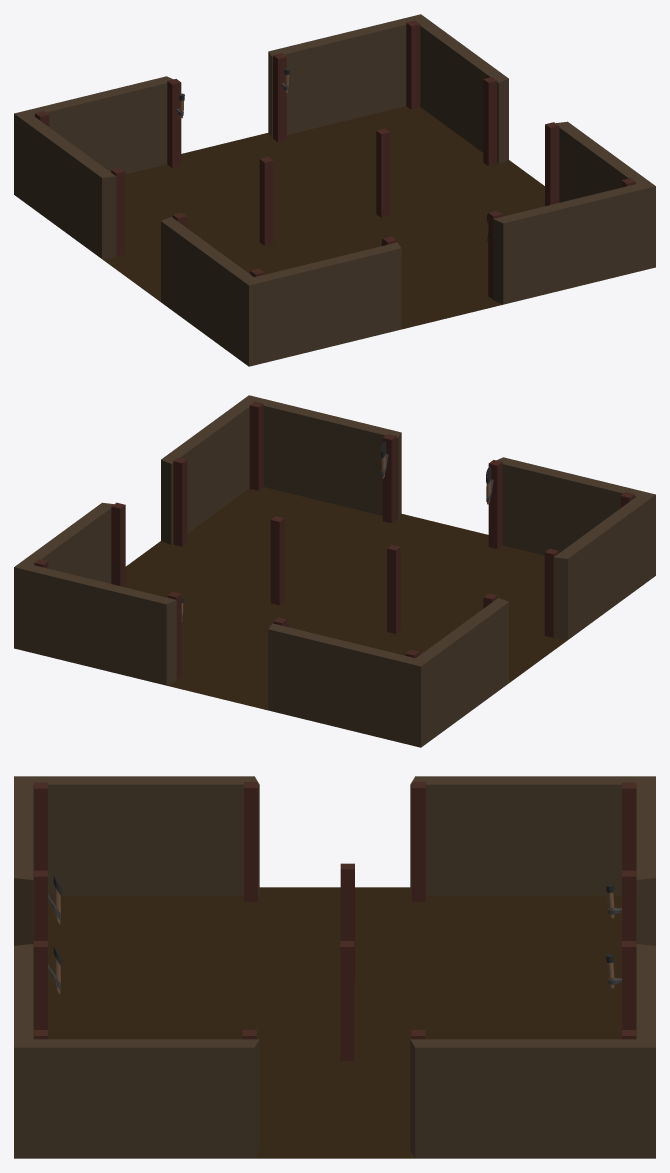
Rendered from RoomBaseLayout2.fbx.
3 renders of one model, top to bottom at view 1: azimuth 30°, elevation 25°; view 2: azimuth 150°, elevation 25°; view 3: azimuth 270°, elevation 25°, orthographic. The views are drawn at different scales.
Visible parts, largest first — view 1: Room1.006, Support.087, Support.083, Support.085, Support.086, Support.079, Support.089, Support.078, Support.084, Support.076; view 2: Room1.006, Support.082, Support.087, Support.089, Support.085, Support.086, Support.077, Support.076, Support.088, Support.078; view 3: Room1.006, Support.084, Support.087, Support.088, Support.078, Support.081, Support.076, Support.080, Support.086, Support.079, Support.077.
Boxes of the visible parts, x1=… form: Room1.006: x1=14, y1=14, x2=655, y2=366; Support.087: x1=376, y1=128, x2=390, y2=217; Support.083: x1=406, y1=20, x2=420, y2=109; Support.085: x1=483, y1=77, x2=497, y2=166; Support.086: x1=259, y1=157, x2=273, y2=245; Support.079: x1=167, y1=79, x2=181, y2=167; Support.089: x1=545, y1=122, x2=559, y2=206; Support.078: x1=273, y1=53, x2=286, y2=142; Support.084: x1=111, y1=167, x2=125, y2=256; Support.076: x1=488, y1=210, x2=502, y2=299; Room1.006: x1=14, y1=395, x2=655, y2=747; Support.082: x1=249, y1=401, x2=263, y2=490; Support.087: x1=270, y1=516, x2=284, y2=605; Support.089: x1=173, y1=457, x2=187, y2=546; Support.085: x1=111, y1=502, x2=125, y2=587; Support.086: x1=387, y1=544, x2=400, y2=633; Support.077: x1=488, y1=460, x2=502, y2=549; Support.076: x1=382, y1=434, x2=396, y2=523; Support.088: x1=544, y1=548, x2=558, y2=637; Support.078: x1=167, y1=591, x2=181, y2=680; Room1.006: x1=14, y1=776, x2=655, y2=1158; Support.084: x1=411, y1=782, x2=425, y2=901; Support.087: x1=340, y1=941, x2=354, y2=1060; Support.088: x1=244, y1=782, x2=257, y2=901; Support.078: x1=622, y1=941, x2=636, y2=1029; Support.081: x1=622, y1=782, x2=636, y2=870; Support.076: x1=34, y1=941, x2=47, y2=1029; Support.080: x1=34, y1=782, x2=47, y2=870; Support.086: x1=340, y1=863, x2=354, y2=983; Support.079: x1=622, y1=870, x2=636, y2=940; Support.077: x1=34, y1=870, x2=47, y2=940.
Bounding box in the file's own units: 796 × 163 × 796.
